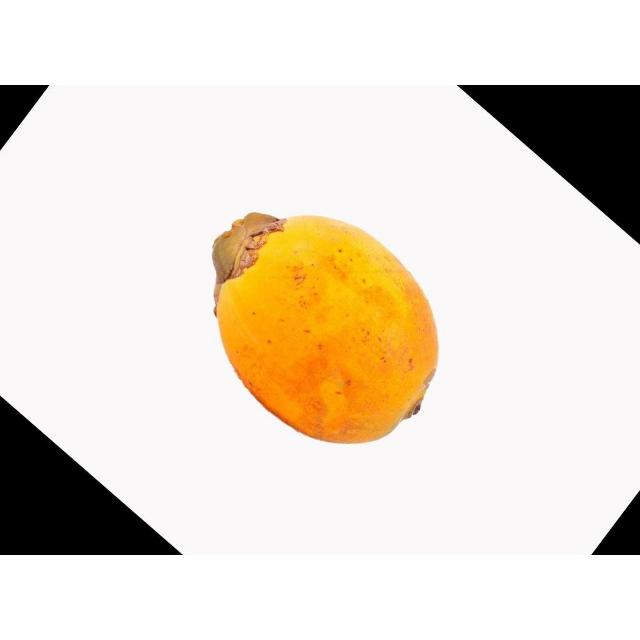good: (211, 214, 440, 446)
